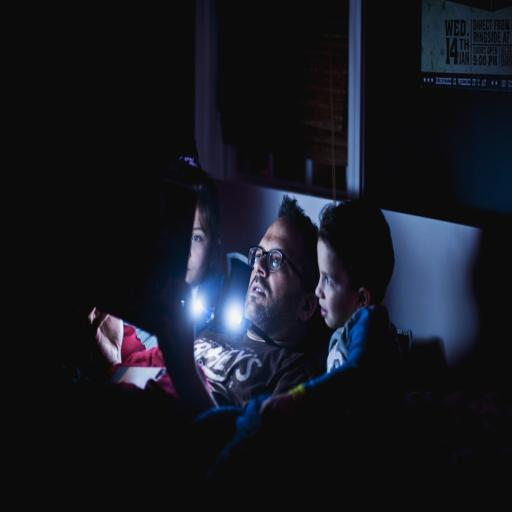face: (245, 257, 305, 345), (316, 239, 360, 328), (186, 208, 211, 287)
